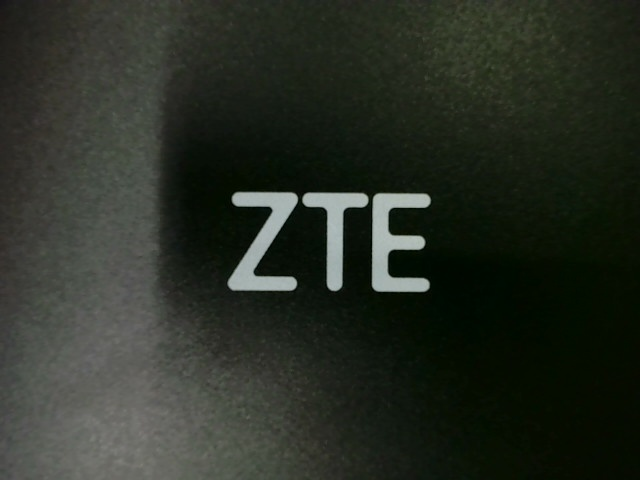AN_ZTE: (214, 185, 443, 305)
